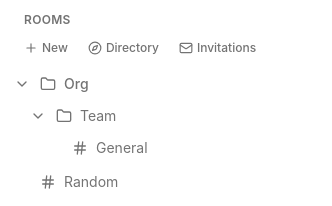
SidebarRooms › collapses a space and remembers it
The image size is (332, 206).
Click the button named "Collapse Team": (38, 116) [28,106,48,126]
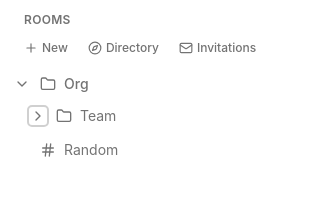
Expected: the link "General" is gone
Expected: the button named "Expand Team" is collapsed, [28,106,48,126]
